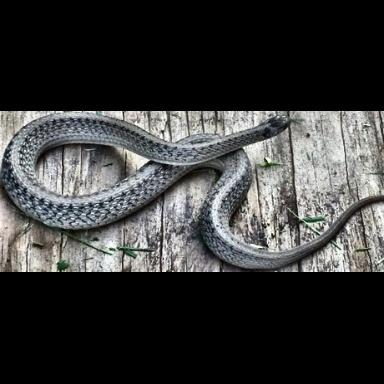snake: (3, 108, 384, 269)
